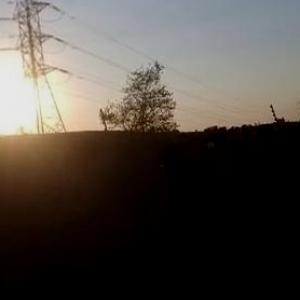follow: (154, 138, 222, 299)
